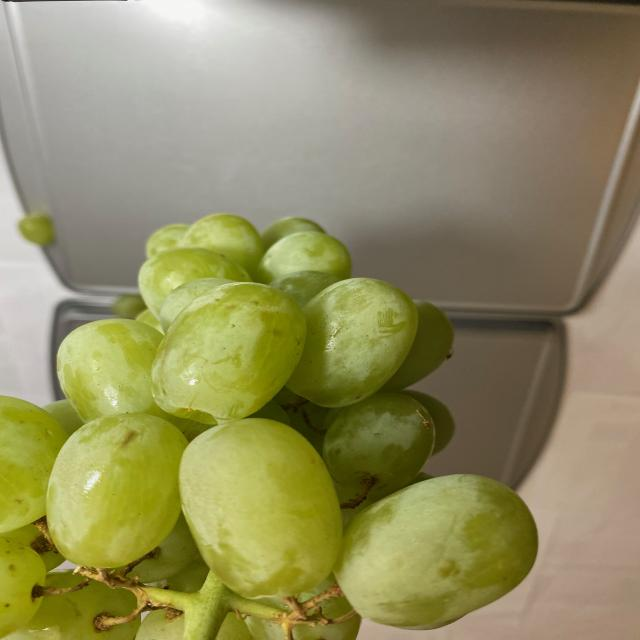Grapes: (0, 208, 544, 636)
